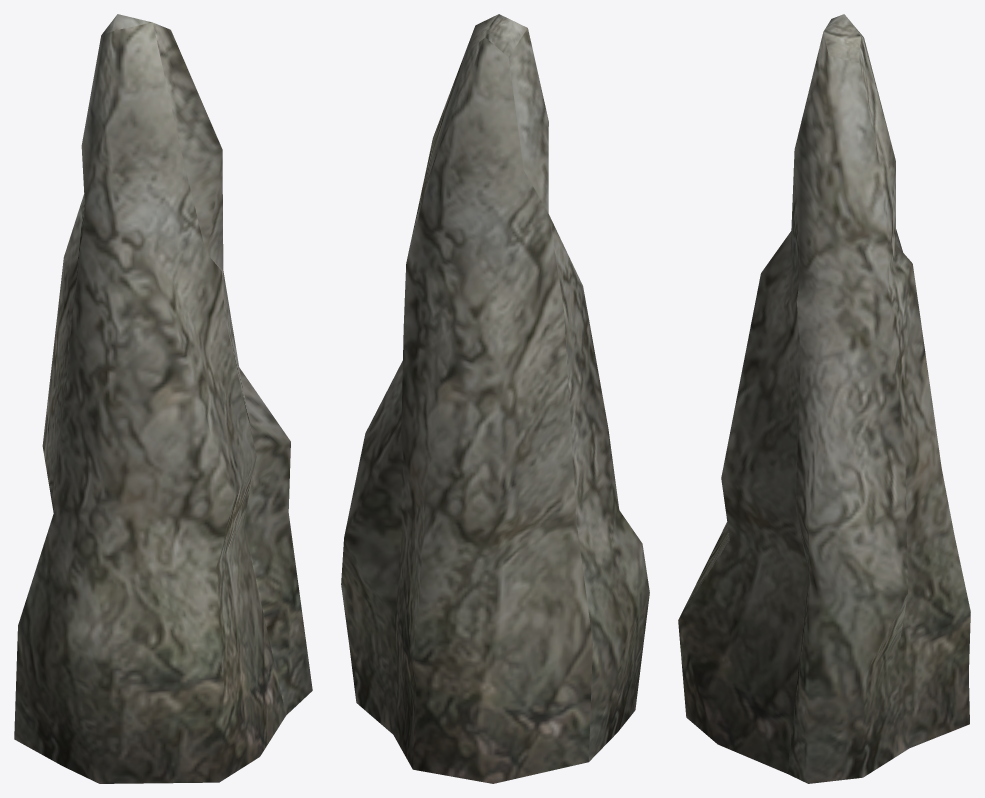
The model's file is DN_lv3_hd_stone02.FBX.
3 renders of one model, left to right at view 1: azimuth 30°, elevation 25°; view 2: azimuth 150°, elevation 25°; view 3: azimuth 270°, elevation 25°, orthographic. The views are drawn at different scales.
Visible parts, largest first — view 1: DN_lv3_hd_stone02; view 2: DN_lv3_hd_stone02; view 3: DN_lv3_hd_stone02.
Boxes of the visible parts, x1,y1,x2,y2 form: DN_lv3_hd_stone02: (14,14,312,783); DN_lv3_hd_stone02: (341,14,649,783); DN_lv3_hd_stone02: (678,14,970,783).
Bounding box in the file's own units: 592 × 1491 × 570.
